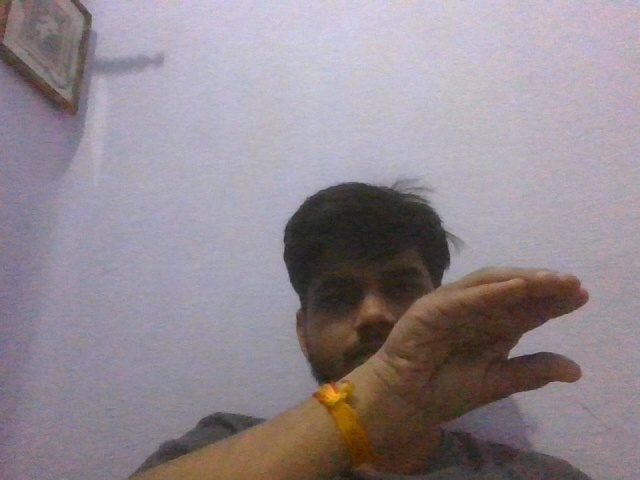sorry: (379, 249, 600, 445)
